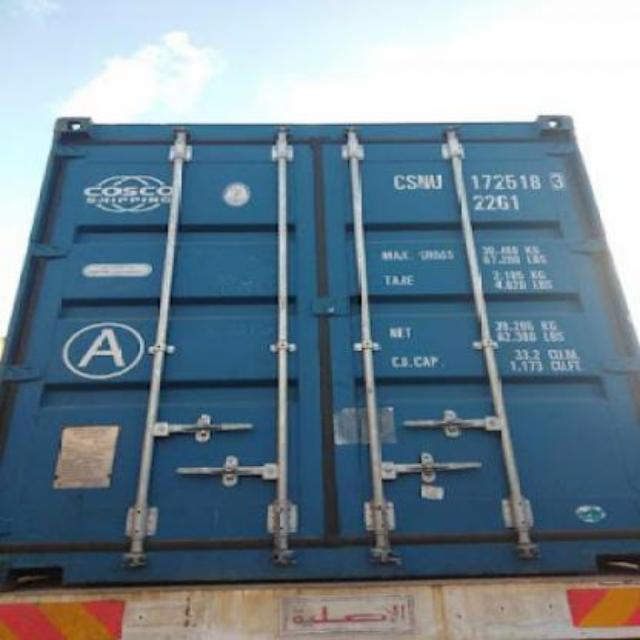1: (468, 168, 480, 194), (518, 170, 530, 192)
2: (492, 168, 504, 190)
3: (548, 167, 568, 197)
5: (506, 166, 518, 192)
7: (480, 170, 492, 194)
8: (528, 168, 542, 192)
C: (392, 170, 406, 194)
N: (416, 168, 429, 194)
S: (404, 169, 416, 195)
U: (431, 170, 444, 190)
